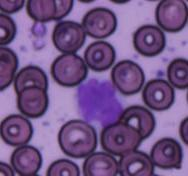M: (72, 75, 128, 129)
